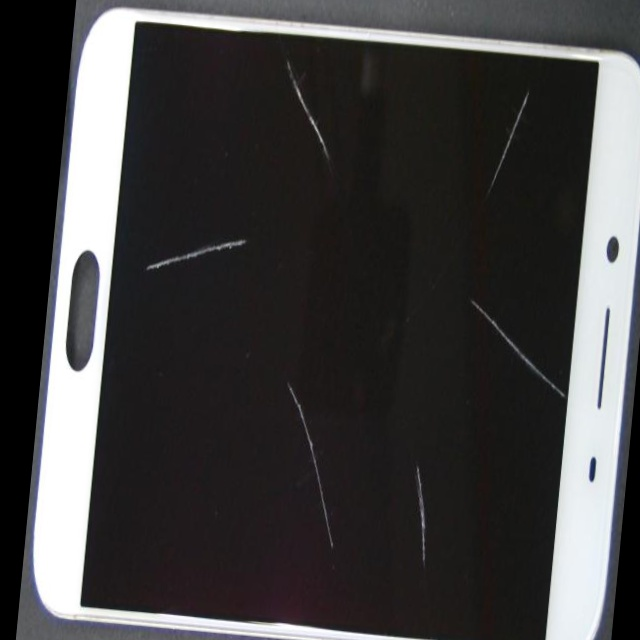scratch: (229, 306, 639, 640), (354, 216, 640, 534), (211, 356, 493, 640), (272, 94, 640, 298), (201, 54, 323, 365), (181, 0, 398, 139)
